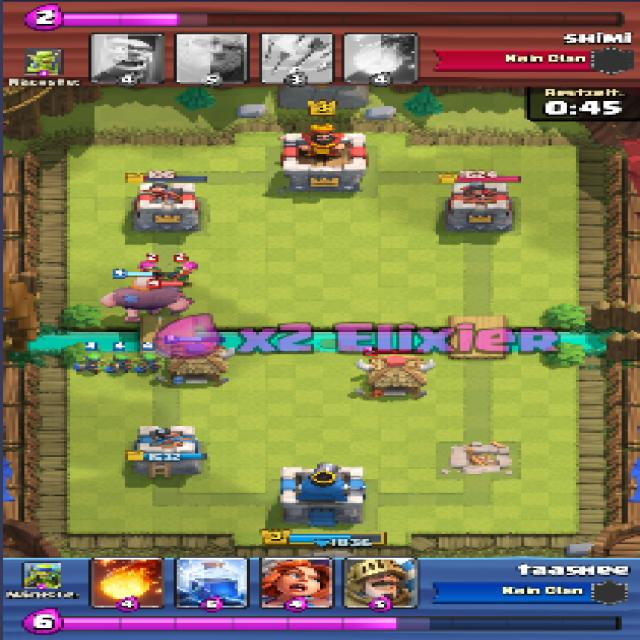Enemy-Archer: (171, 261, 197, 276), (138, 260, 162, 276)
Enemy-GoblinHut: (352, 354, 439, 398)
Enemy-MiniPEKKA: (160, 284, 192, 303)
Player-Giant: (100, 276, 194, 317)
Player-GoblinHut: (144, 342, 240, 386)
Player-SpearGoblin: (72, 350, 106, 372), (132, 352, 163, 374), (104, 354, 133, 374)
